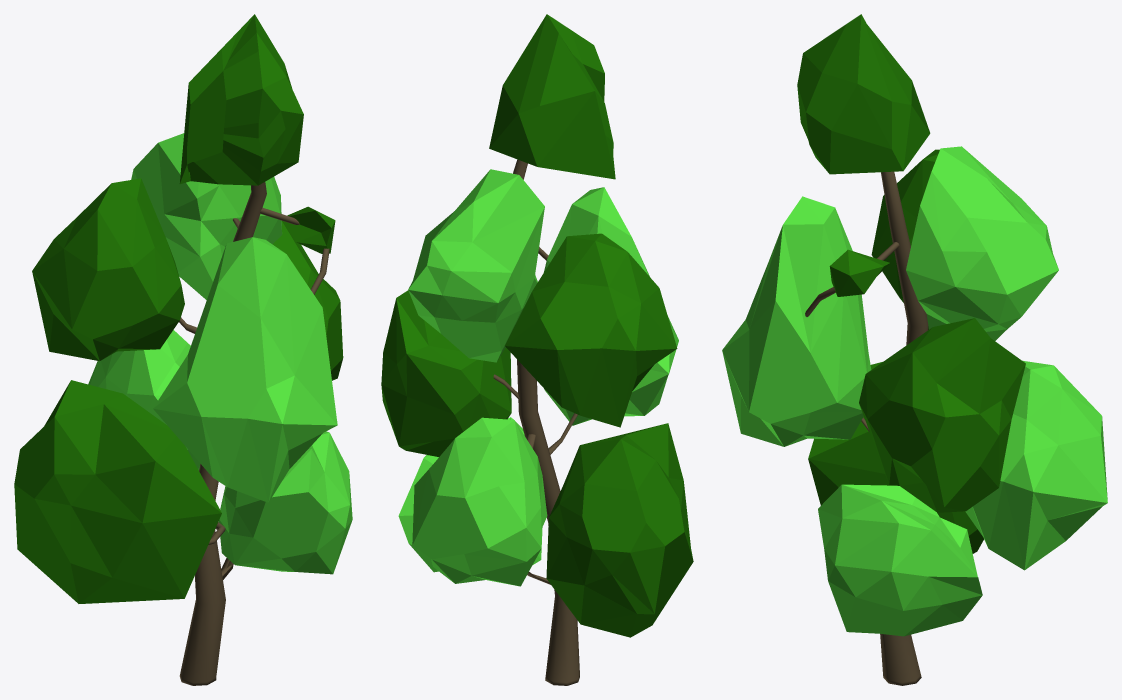
The model's file is tall-tree.glb.
3 views of the same model, side by side, from view 1: azimuth 30°, elevation 25°; view 2: azimuth 150°, elevation 25°; view 3: azimuth 270°, elevation 25° (orthographic). The views are drawn at different scales.
Parts seen in each view (by area): view 1: Icosphere.004, Icosphere.007, Icosphere.002, Icosphere, Icosphere.005, Icosphere.001, Cylinder, Icosphere.006, Icosphere.003, Icosphere.008; view 2: Icosphere.004, Icosphere.002, Icosphere.006, Icosphere.001, Icosphere, Icosphere.003, Cylinder, Icosphere.007, Icosphere.005; view 3: Icosphere.007, Icosphere.003, Icosphere.001, Icosphere.005, Icosphere.006, Icosphere, Cylinder, Icosphere.004, Icosphere.002, Icosphere.008.
Part boxes in pixels (x1,y1,x2,y2): Icosphere.004: (14, 380, 221, 603); Icosphere.007: (153, 237, 337, 502); Icosphere.002: (32, 178, 184, 361); Icosphere: (179, 14, 303, 185); Icosphere.005: (218, 431, 352, 574); Icosphere.001: (131, 133, 282, 300); Cylinder: (179, 182, 329, 685); Icosphere.006: (88, 330, 200, 470); Icosphere.003: (272, 221, 343, 380); Icosphere.008: (284, 206, 335, 253); Icosphere.004: (546, 423, 693, 637); Icosphere.002: (505, 233, 677, 427); Icosphere.006: (412, 417, 547, 586); Icosphere.001: (408, 169, 544, 362); Icosphere: (489, 14, 615, 179); Icosphere.003: (381, 290, 511, 456); Cylinder: (493, 159, 579, 685); Icosphere.007: (543, 187, 678, 425); Icosphere.005: (398, 417, 542, 572); Icosphere.007: (722, 196, 871, 446); Icosphere.003: (859, 318, 1025, 512); Icosphere.001: (906, 146, 1058, 340); Icosphere.005: (818, 484, 982, 636); Icosphere.006: (965, 360, 1107, 570); Icosphere: (797, 14, 930, 174); Cylinder: (805, 171, 928, 685); Icosphere.004: (808, 362, 983, 553); Icosphere.002: (871, 149, 939, 329); Icosphere.008: (829, 249, 889, 296).
Size of the model in its own units: 5.44 by 11.38 by 5.83.
